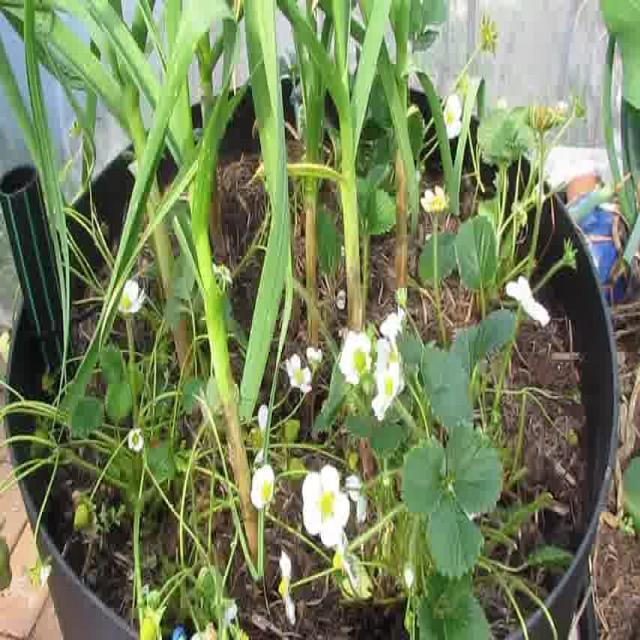Fruta sana: (140, 606, 165, 640), (30, 419, 50, 459), (72, 498, 93, 532), (0, 534, 12, 590), (280, 418, 300, 448), (286, 458, 306, 479), (41, 372, 53, 396), (347, 448, 359, 471), (234, 632, 248, 640)
Moho gris: (189, 621, 218, 640)
